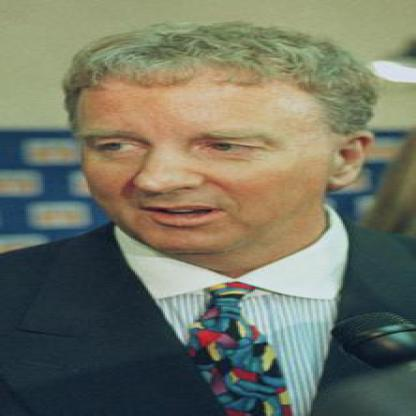face: (69, 31, 340, 259)
